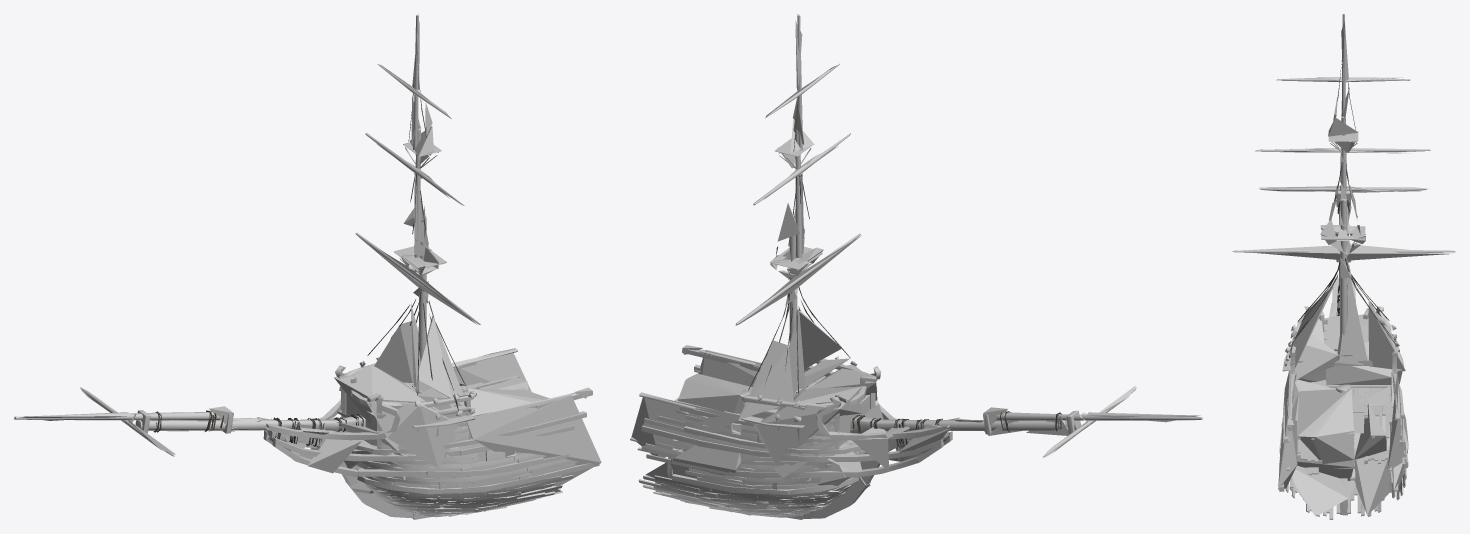
The model's file is SM_ship_4.fbx.
3 views of the same model, side by side, from view 1: azimuth 30°, elevation 25°; view 2: azimuth 150°, elevation 25°; view 3: azimuth 270°, elevation 25° (orthographic). The views are drawn at different scales.
Parts seen in each view (by area): view 1: SM_ship_4, SM_ship_4_ConvexHulls; view 2: SM_ship_4, SM_ship_4_ConvexHulls; view 3: SM_ship_4_ConvexHulls, SM_ship_4.
Boxes of the visible parts, bbox=[...] form: SM_ship_4: bbox=[14, 14, 599, 519]; SM_ship_4_ConvexHulls: bbox=[18, 21, 601, 515]; SM_ship_4: bbox=[630, 14, 1202, 519]; SM_ship_4_ConvexHulls: bbox=[631, 20, 1200, 513]; SM_ship_4_ConvexHulls: bbox=[1241, 20, 1453, 516]; SM_ship_4: bbox=[1232, 14, 1455, 519].
Size of the model in its own units: 3904 by 1532 by 3424.
